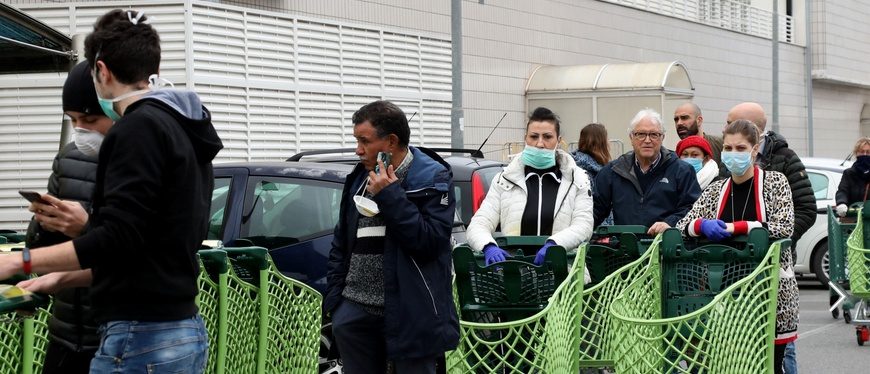mouth: (357, 158, 367, 163), (640, 146, 652, 150), (676, 129, 684, 132)
nose: (354, 149, 364, 156), (535, 143, 545, 149), (644, 139, 651, 144), (675, 122, 682, 126)
